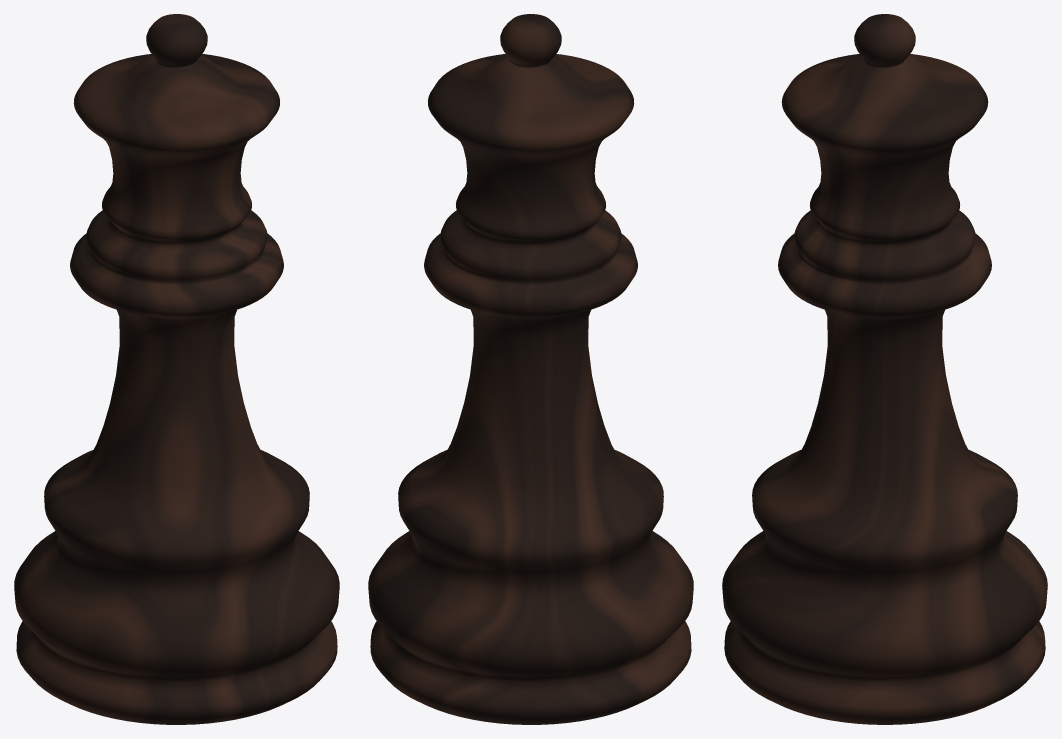
Rendered from blackQueen.fbx.
3 views of the same model, side by side, from view 1: azimuth 30°, elevation 25°; view 2: azimuth 150°, elevation 25°; view 3: azimuth 270°, elevation 25° (orthographic).
Visible parts, largest first — view 1: blackQueen; view 2: blackQueen; view 3: blackQueen.
Part boxes in pixels (<box>): blackQueen: <box>14,14,339,724</box>; blackQueen: <box>368,14,693,724</box>; blackQueen: <box>722,14,1047,724</box>.
Bounding box in the file's own units: 74.03 × 163 × 74.03.
Materials: 1 (1 with a texture image).
